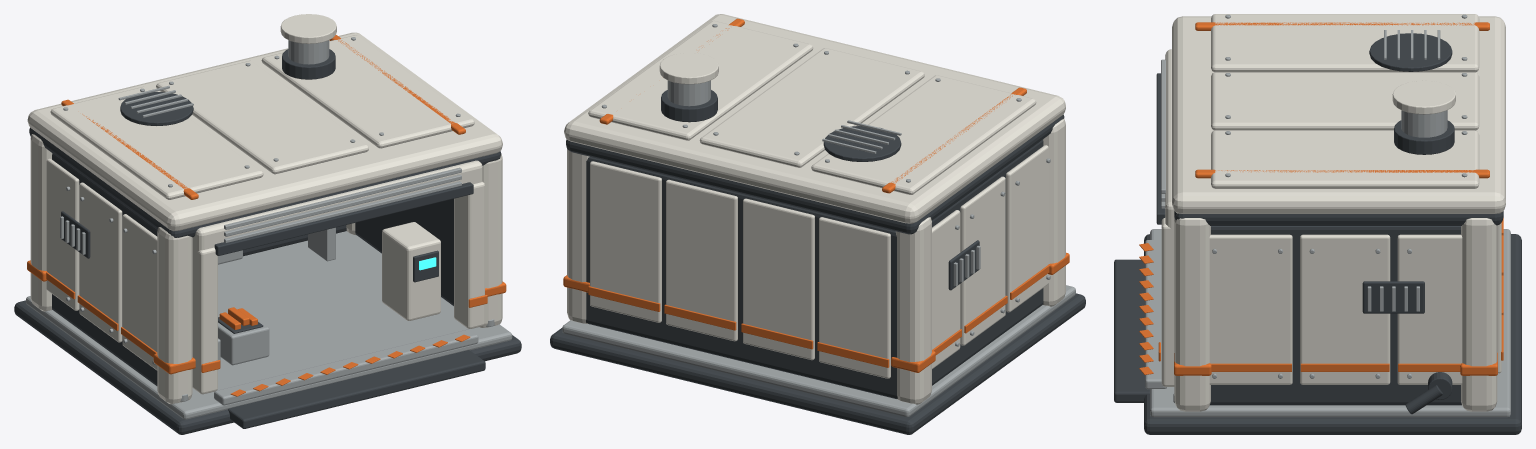
File: SM_CrudeWorkshop.fbx
3 renders of one model, left to right at view 1: azimuth 30°, elevation 25°; view 2: azimuth 150°, elevation 25°; view 3: azimuth 270°, elevation 25°, orthographic. The views are drawn at different scales.
Visible parts, largest first — view 1: SM_CrudeWorkshop; view 2: SM_CrudeWorkshop; view 3: SM_CrudeWorkshop.
Part boxes in pixels (x1,y1,x2,y2): SM_CrudeWorkshop: (14, 14, 521, 434); SM_CrudeWorkshop: (550, 14, 1085, 434); SM_CrudeWorkshop: (1114, 14, 1521, 434).
Size of the model in its own units: 380 by 335 by 266.
